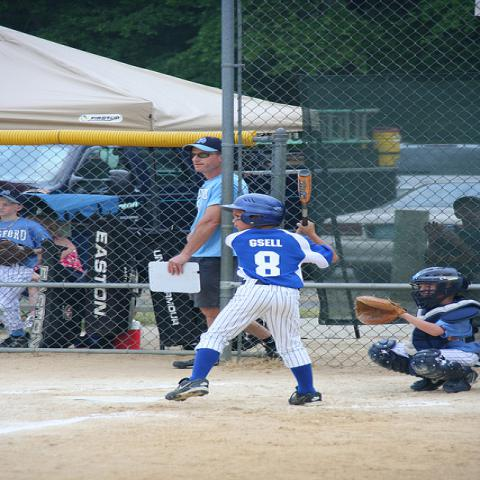car: (319, 176, 479, 266), (394, 143, 479, 196)
truck: (0, 142, 207, 263)
